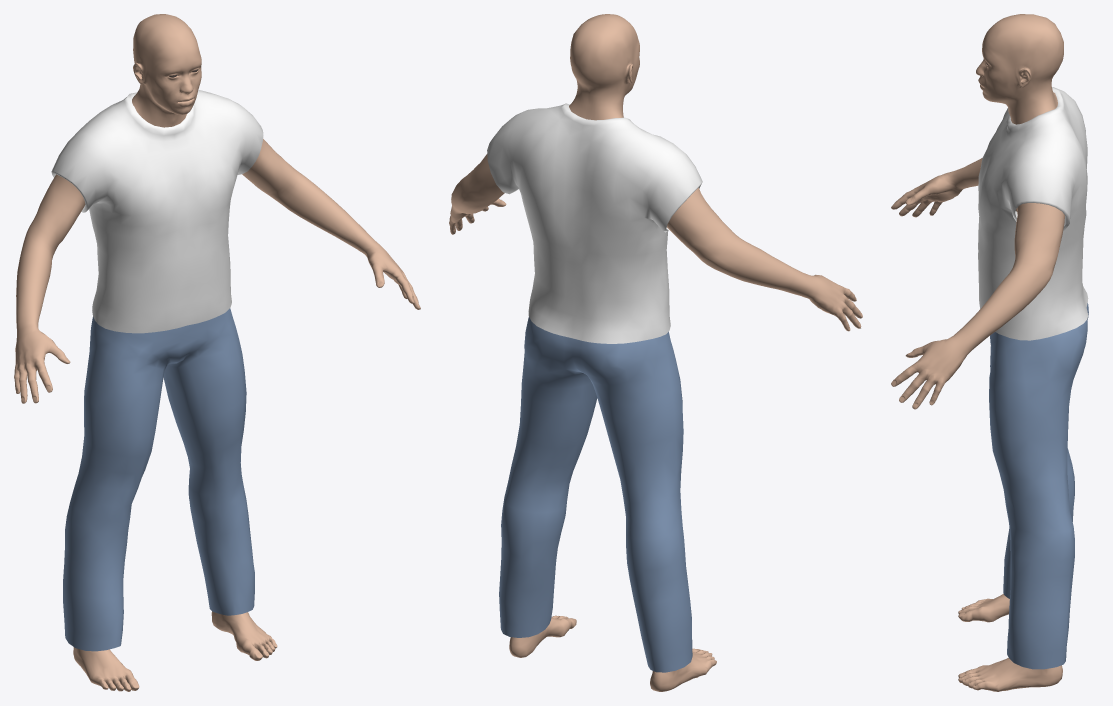
Rendered from body_avg.glb.
The picture shows the model from 3 angles, left to right: view 1: azimuth 30°, elevation 25°; view 2: azimuth 150°, elevation 25°; view 3: azimuth 270°, elevation 25°; orthographic projection.
Parts seen in each view (by area): view 1: jeans_M, tee_M, body; view 2: jeans_M, tee_M, body; view 3: jeans_M, body, tee_M.
Boxes of the visible parts, x1,y1,x2,y2 form: jeans_M: [63, 308, 254, 651]; tee_M: [51, 90, 263, 333]; body: [14, 14, 420, 691]; jeans_M: [499, 317, 692, 672]; tee_M: [487, 103, 702, 343]; body: [449, 14, 862, 691]; jeans_M: [989, 303, 1088, 669]; body: [891, 14, 1064, 691]; tee_M: [978, 87, 1088, 340].
Bounding box in the file's own units: 1.13 × 1.73 × 0.5142.
Materials: 10 (8 with a texture image).
